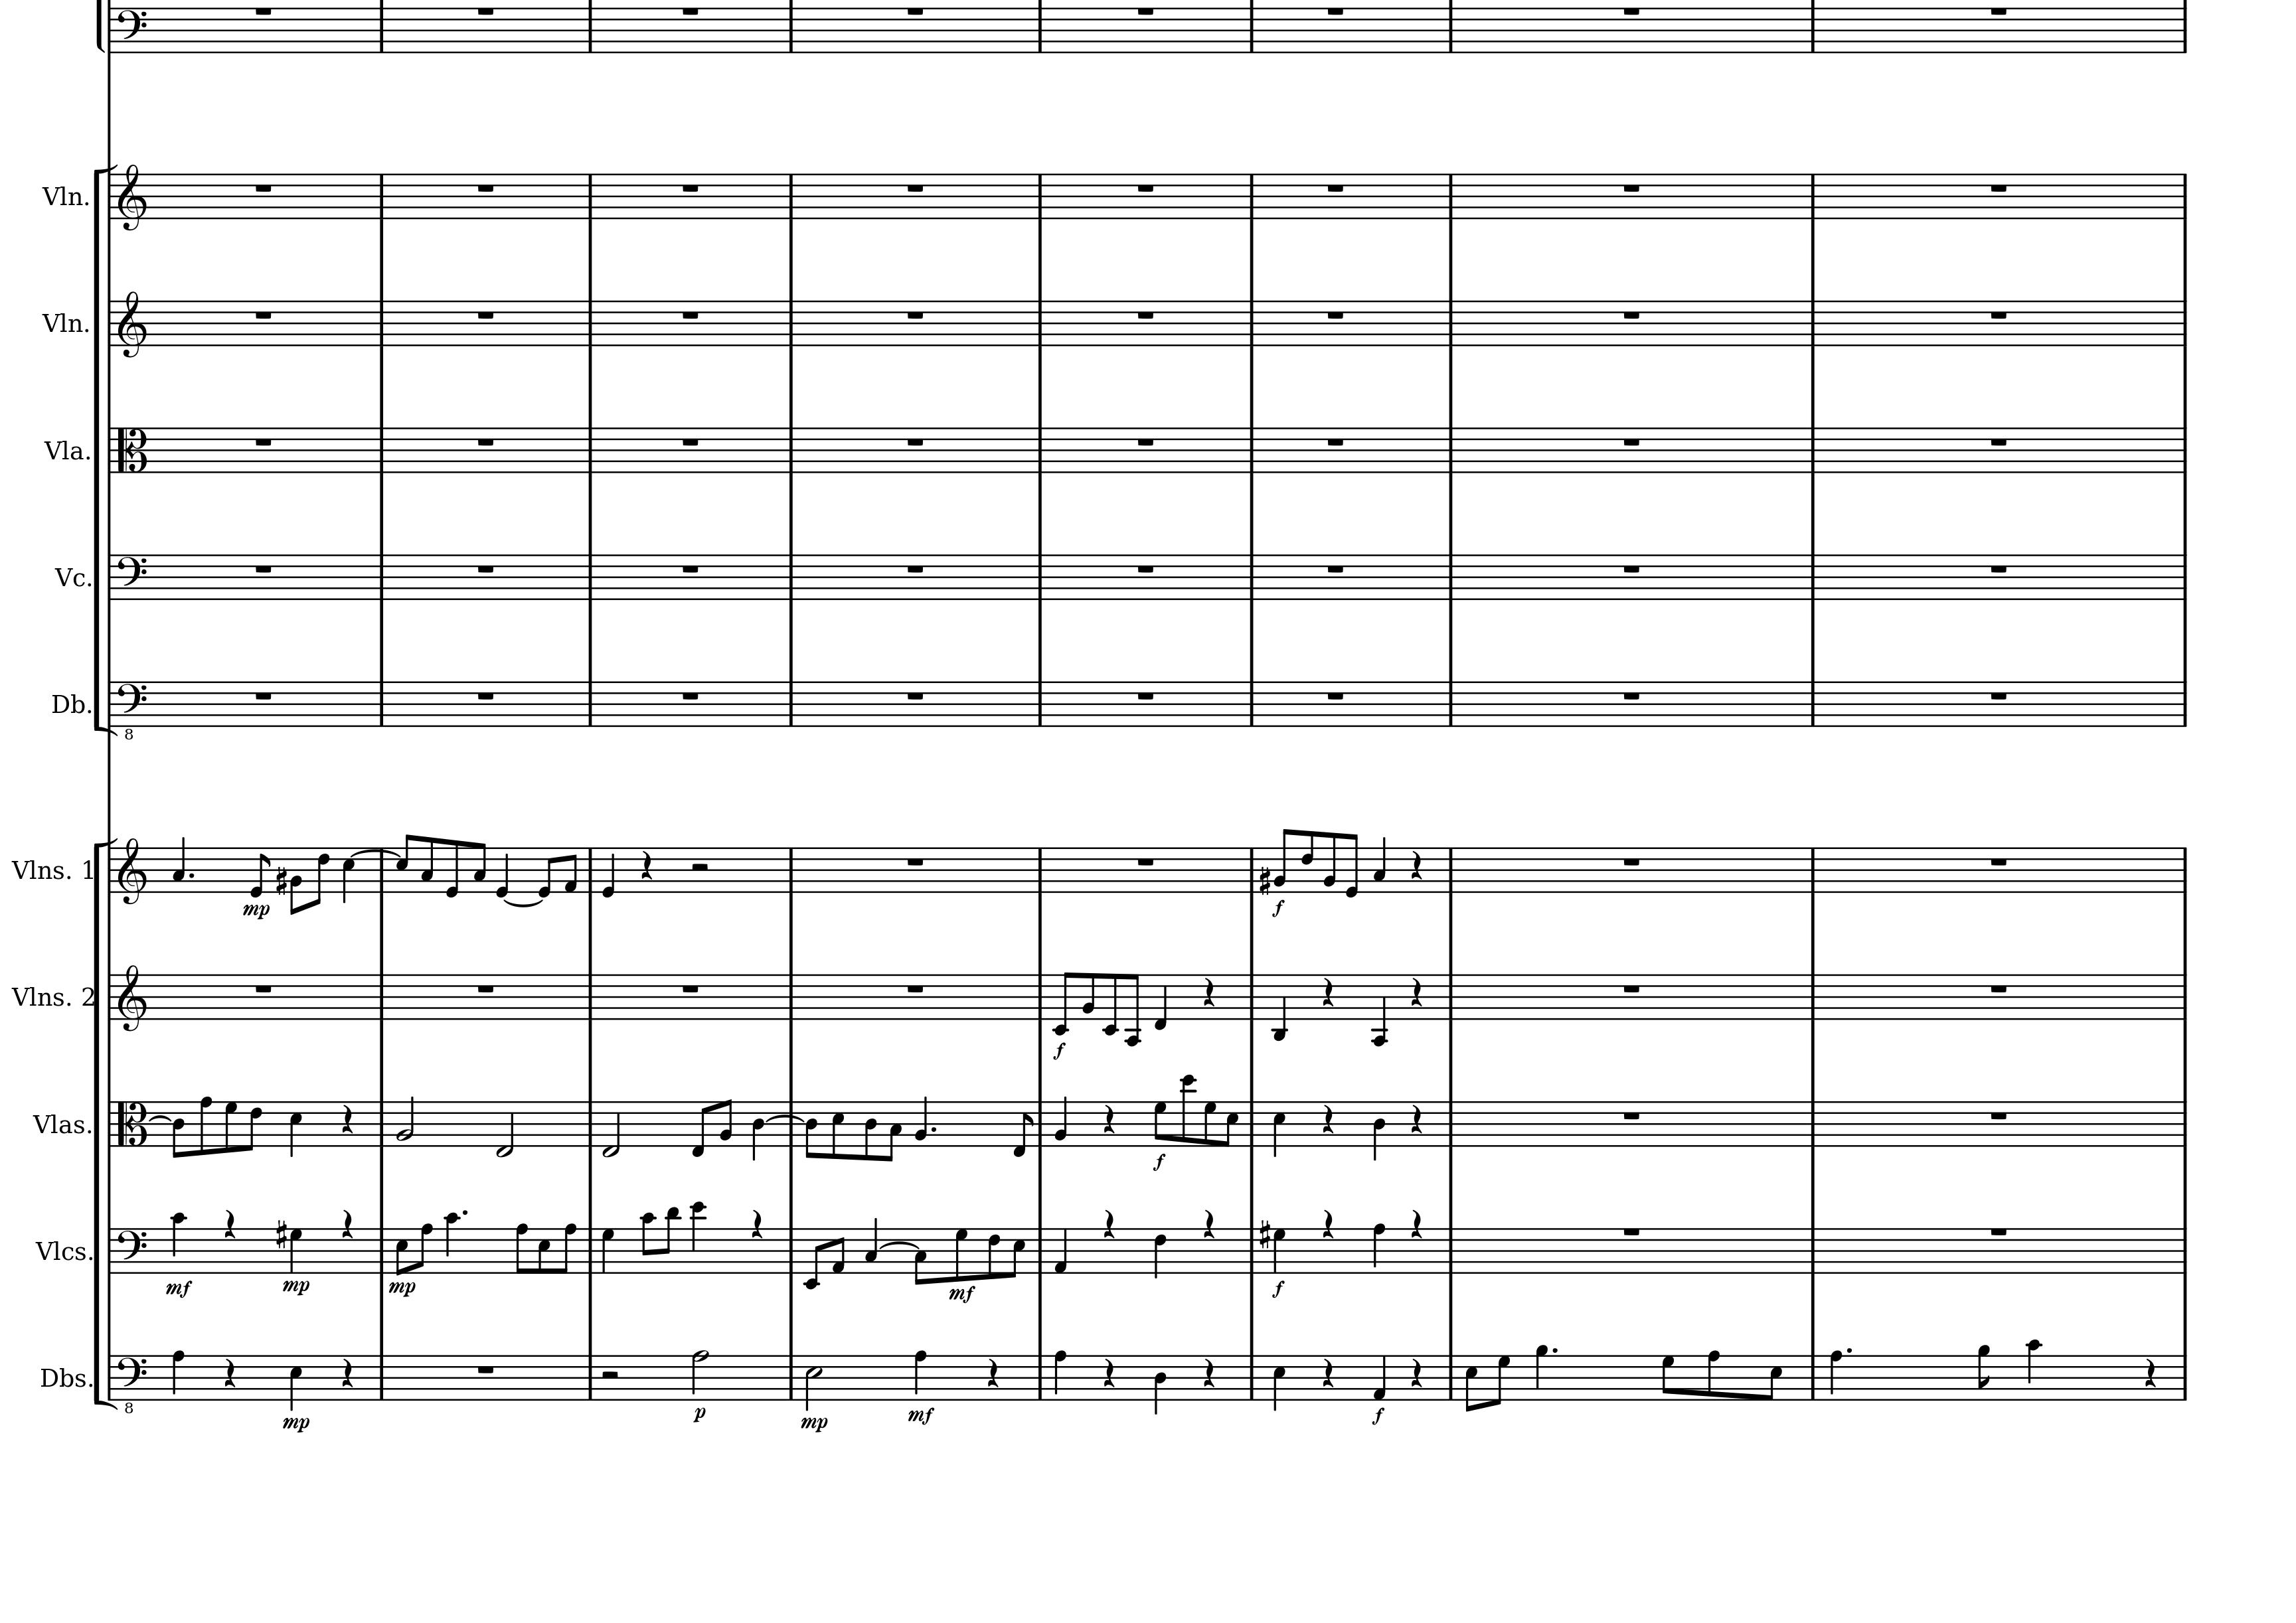2_-1: (495, 1100, 515, 1158), (601, 1100, 620, 1158)
2_2: (395, 1094, 415, 1147)
2_5: (805, 1354, 822, 1410)
2_8: (690, 1349, 710, 1402)
4_-1: (1152, 973, 1168, 1031)
4_-3: (1270, 971, 1288, 1042)
4_-4: (1370, 973, 1390, 1047)
4_0: (601, 847, 617, 898), (495, 847, 509, 899)
4_1: (1052, 1228, 1068, 1273), (1370, 1354, 1386, 1400)
4_10: (169, 1210, 188, 1272), (2025, 1337, 2043, 1402), (443, 1210, 460, 1273)
4_12: (689, 1200, 708, 1275)
4_2: (1052, 1094, 1068, 1147), (913, 1094, 928, 1147)
4_3: (170, 836, 184, 894), (1372, 834, 1386, 892), (864, 1215, 878, 1273)
4_4: (1370, 1100, 1386, 1161), (750, 1100, 764, 1161), (1152, 1354, 1166, 1416)
4_5: (341, 845, 355, 905), (288, 1100, 302, 1158), (1272, 1100, 1286, 1158), (1272, 1354, 1286, 1412), (288, 1354, 302, 1410)
4_6: (1152, 1226, 1166, 1280)
4_7: (288, 1226, 304, 1273), (601, 1226, 615, 1273), (1272, 1226, 1286, 1273)
4_8: (1370, 1221, 1388, 1273), (1052, 1349, 1068, 1402), (170, 1349, 184, 1402), (913, 1349, 928, 1400), (1829, 1349, 1843, 1400)
4_9: (1534, 1344, 1548, 1400)
8_-1: (689, 1100, 710, 1158), (1012, 1100, 1033, 1158)
8_-2: (1052, 970, 1073, 1035), (803, 1226, 822, 1289), (1101, 971, 1119, 1035)
8_-4: (1124, 971, 1140, 1045)
8_0: (249, 845, 271, 898), (536, 845, 555, 898), (444, 838, 460, 898), (1344, 833, 1358, 898)
8_1: (829, 1228, 847, 1275), (564, 845, 578, 892)
8_10: (639, 1210, 655, 1273)
8_11: (661, 1205, 682, 1273)
8_12: (1179, 1073, 1196, 1147)
8_2: (1274, 827, 1293, 894), (288, 848, 302, 913), (1323, 831, 1337, 894), (1080, 971, 1096, 1019), (718, 1096, 733, 1147)
8_3: (884, 1100, 903, 1163), (912, 1226, 928, 1286), (420, 836, 434, 892), (473, 840, 487, 894)
8_4: (863, 1098, 878, 1161), (803, 1100, 819, 1159), (170, 1100, 184, 1159)
8_5: (395, 833, 413, 894), (1762, 1352, 1783, 1402), (829, 1098, 845, 1159), (1008, 1226, 1026, 1277), (1463, 1352, 1477, 1412), (1221, 1100, 1238, 1147), (536, 1228, 552, 1273), (393, 1228, 408, 1275)
8_6: (313, 845, 330, 906), (244, 1100, 264, 1152), (1300, 829, 1314, 894), (986, 1226, 1001, 1280)
8_7: (1491, 1354, 1511, 1405), (954, 1226, 968, 1280), (1202, 1100, 1217, 1147), (223, 1100, 237, 1152), (1660, 1354, 1676, 1400), (1154, 1100, 1166, 1147)
8_8: (557, 1221, 576, 1273), (415, 1221, 432, 1273), (199, 1094, 213, 1156), (515, 1221, 529, 1275), (1706, 1349, 1720, 1402)
8_9: (1976, 1344, 1990, 1402)
Bracke: (91, 834, 119, 1423), (93, 163, 121, 747)
Cclef: (114, 425, 148, 472), (116, 1100, 148, 1147)
Dbs: (40, 1365, 76, 1389), (49, 692, 83, 715)
Fclef: (116, 552, 148, 601), (116, 5, 148, 51), (118, 1226, 148, 1273)
Gclef: (116, 288, 148, 358), (118, 162, 148, 232), (118, 836, 148, 906), (118, 963, 148, 1033)
Lower_Fclef: (118, 1352, 149, 1414), (116, 680, 148, 739)
Rests1: (905, 4, 928, 18), (1620, 4, 1643, 18), (474, 307, 497, 321), (1987, 560, 2010, 574), (1620, 1224, 1643, 1238), (1987, 1224, 2010, 1238), (253, 4, 274, 18), (1989, 4, 2010, 18), (253, 307, 274, 321), (905, 307, 926, 321), (1135, 307, 1156, 321), (1621, 307, 1643, 321), (1989, 307, 2010, 321), (1989, 434, 2010, 448), (1989, 854, 2010, 868), (474, 4, 497, 16), (680, 4, 703, 16), (1135, 4, 1158, 16), (1325, 4, 1347, 16), (474, 181, 497, 193), (1325, 181, 1347, 193), (1620, 181, 1643, 193), (1325, 436, 1347, 448), (474, 562, 497, 574), (474, 689, 497, 701), (903, 689, 926, 701), (1325, 689, 1347, 701), (1620, 689, 1643, 701), (1987, 689, 2010, 701), (474, 982, 497, 994), (1620, 982, 1643, 994), (1987, 982, 2010, 994), (1620, 1108, 1643, 1121), (1987, 1108, 2010, 1121), (474, 1363, 497, 1375), (253, 181, 274, 193), (680, 181, 701, 193), (905, 181, 926, 193), (1135, 181, 1156, 193), (1989, 181, 2010, 193), (680, 309, 701, 321), (1325, 309, 1346, 321), (253, 436, 274, 448), (476, 436, 497, 448), (680, 436, 701, 448), (905, 436, 926, 448), (1135, 436, 1156, 448), (1621, 436, 1643, 448), (253, 562, 274, 574), (680, 562, 701, 574), (905, 562, 926, 574), (1135, 562, 1156, 574), (1325, 562, 1346, 574), (1621, 562, 1643, 574), (253, 689, 274, 701), (680, 689, 701, 701), (1135, 689, 1156, 701), (905, 855, 926, 868), (1135, 855, 1156, 868), (1621, 855, 1643, 868), (253, 982, 274, 994), (680, 982, 701, 994), (905, 982, 926, 994)
Rests2: (597, 1368, 622, 1382), (687, 861, 711, 873)
Rests4: (1200, 975, 1216, 1008), (1319, 975, 1335, 1008), (221, 1207, 237, 1240), (221, 1356, 237, 1389), (339, 1356, 355, 1389), (1319, 1356, 1335, 1389), (639, 848, 653, 882), (1409, 848, 1423, 882), (1409, 975, 1423, 1008), (1101, 1101, 1116, 1135), (1321, 1101, 1335, 1135), (1409, 1103, 1423, 1136), (1101, 1207, 1116, 1240), (1202, 1207, 1216, 1240), (1321, 1207, 1335, 1240), (1409, 1207, 1423, 1240), (986, 1356, 1000, 1389), (1101, 1356, 1116, 1389), (1202, 1356, 1216, 1389), (1409, 1356, 1423, 1389), (2143, 1356, 2157, 1389), (341, 1103, 355, 1135), (750, 1208, 764, 1240), (341, 1208, 353, 1240)
Sharp: (274, 864, 288, 896), (274, 1217, 288, 1249), (1256, 1217, 1270, 1249), (1258, 862, 1270, 896)
Single_barline: (1804, 300, 1822, 346), (1804, 553, 1822, 599), (1804, 973, 1822, 1019), (1804, 1101, 1822, 1147), (2177, 4, 2192, 53), (581, 300, 597, 346), (783, 300, 799, 346), (1244, 300, 1260, 346), (1444, 300, 1460, 346), (581, 427, 597, 472), (783, 427, 799, 472), (1244, 427, 1260, 472), (1804, 427, 1820, 472), (581, 553, 597, 599), (783, 553, 799, 599), (1244, 553, 1260, 599), (1444, 553, 1460, 599), (2177, 553, 2192, 599), (783, 847, 799, 892), (783, 973, 799, 1019), (1244, 1101, 1260, 1147), (783, 1354, 799, 1400), (783, 174, 799, 218), (1244, 682, 1260, 725), (1806, 682, 1822, 725), (583, 1101, 599, 1145), (583, 1228, 599, 1272), (783, 1228, 799, 1272), (783, 4, 798, 53), (374, 5, 388, 53), (583, 5, 597, 53), (1245, 5, 1260, 53), (1444, 5, 1458, 53), (1033, 5, 1047, 53), (1806, 5, 1820, 53), (104, 7, 118, 53), (104, 172, 118, 218), (374, 300, 388, 346), (1033, 300, 1047, 346), (2177, 300, 2191, 346), (374, 427, 388, 472), (1033, 427, 1047, 472), (1444, 427, 1458, 472), (2177, 427, 2191, 472), (374, 553, 388, 599), (1033, 553, 1047, 599), (104, 847, 118, 892), (2177, 847, 2191, 892), (583, 847, 597, 892), (1033, 847, 1047, 892), (1244, 847, 1258, 892), (1444, 847, 1458, 892), (1806, 847, 1820, 892), (104, 973, 118, 1019), (374, 973, 388, 1019), (583, 973, 597, 1019), (2177, 973, 2191, 1019), (1033, 973, 1047, 1019), (1245, 973, 1260, 1019), (1444, 973, 1458, 1019), (2177, 1101, 2191, 1147), (1806, 1354, 1820, 1400), (583, 1354, 597, 1400), (1033, 1354, 1047, 1400), (1444, 1354, 1458, 1400), (374, 174, 388, 218), (583, 174, 597, 218), (1033, 174, 1047, 218), (1444, 174, 1458, 218), (1806, 174, 1820, 218), (2177, 174, 2191, 218), (1245, 174, 1260, 218), (374, 682, 388, 725), (583, 682, 597, 725), (783, 682, 798, 725), (1033, 682, 1047, 725), (1444, 682, 1458, 725), (2177, 682, 2191, 725), (1033, 1101, 1047, 1145), (1444, 1101, 1458, 1145), (376, 1228, 390, 1272), (1033, 1228, 1047, 1272), (1444, 1228, 1458, 1272), (1806, 1228, 1820, 1272), (2177, 1228, 2191, 1272), (104, 300, 116, 346), (104, 427, 116, 472), (104, 553, 116, 599), (104, 1354, 116, 1400), (376, 1354, 388, 1400), (1245, 1354, 1258, 1400), (2178, 1354, 2191, 1400), (104, 682, 116, 725), (376, 848, 388, 892), (104, 1101, 116, 1145), (376, 1101, 388, 1145), (104, 1228, 116, 1272), (1245, 1228, 1258, 1272)
Slur: (348, 848, 402, 857), (877, 1240, 921, 1251), (764, 1112, 803, 1122), (502, 898, 543, 906), (148, 1115, 172, 1121)
Vc: (53, 566, 86, 588)
Vla: (44, 434, 84, 465), (33, 1108, 72, 1138)
Vlc: (35, 1235, 76, 1266)
Vln: (40, 179, 84, 211), (40, 306, 84, 337), (11, 854, 51, 884), (12, 980, 51, 1010)
dot: (460, 1207, 469, 1217), (186, 869, 195, 878), (929, 1124, 938, 1133), (1549, 1345, 1558, 1354), (1845, 1345, 1853, 1354)
f: (1368, 1405, 1386, 1426), (1270, 1277, 1286, 1300), (1270, 898, 1286, 919), (1052, 1040, 1068, 1061), (1151, 1151, 1166, 1172)
mf: (163, 1277, 193, 1300), (906, 1405, 936, 1428), (947, 1284, 977, 1305)
mp: (239, 901, 272, 922), (279, 1414, 313, 1435), (798, 1414, 829, 1435), (281, 1277, 311, 1296), (386, 1279, 416, 1298)
p: (690, 1405, 706, 1425)
